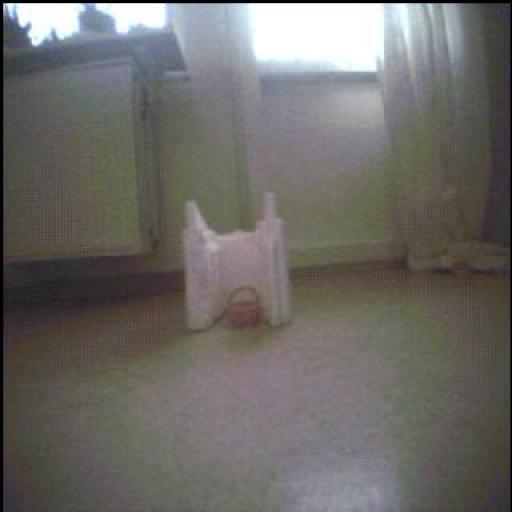Basket: (228, 287, 265, 329)
